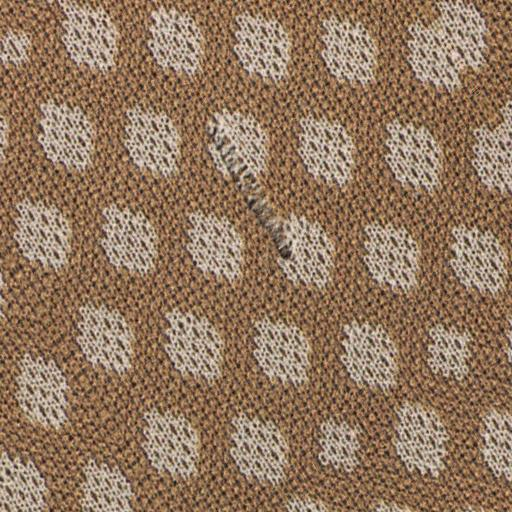slub: (187, 102, 319, 288)
